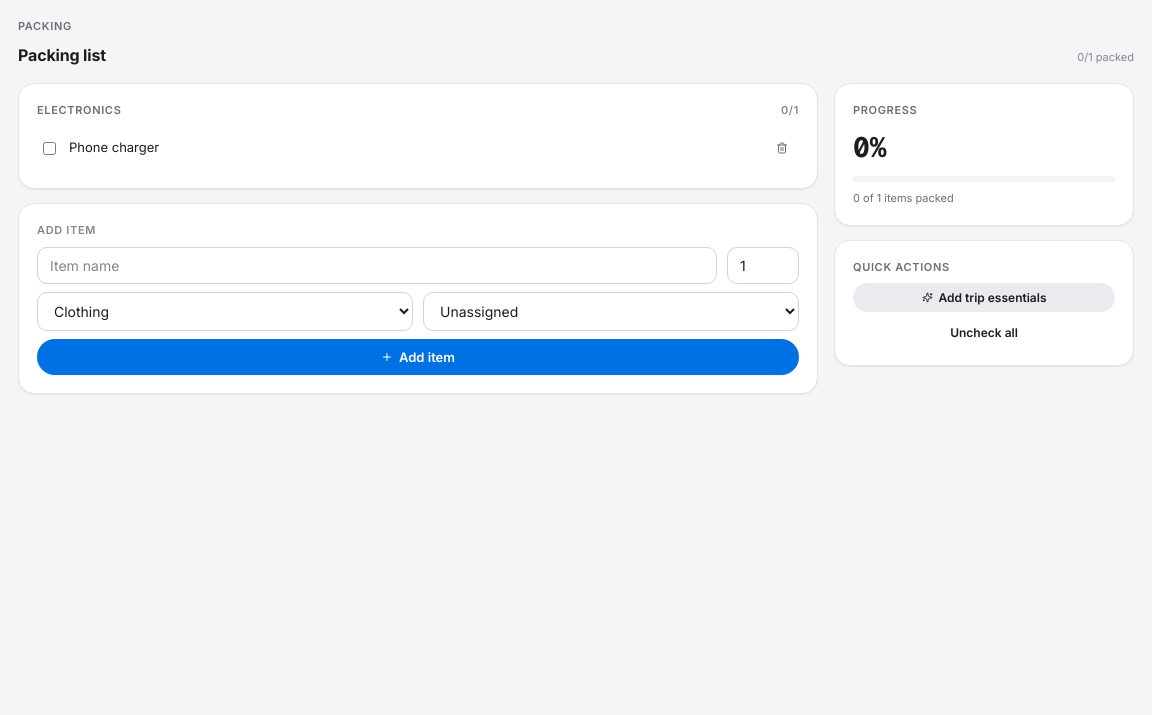
Test case: PackingView › does not duplicate starter items already on the list
Click the button "Add trip essentials" at {"x": 984, "y": 298}, box [853, 283, 1115, 312]
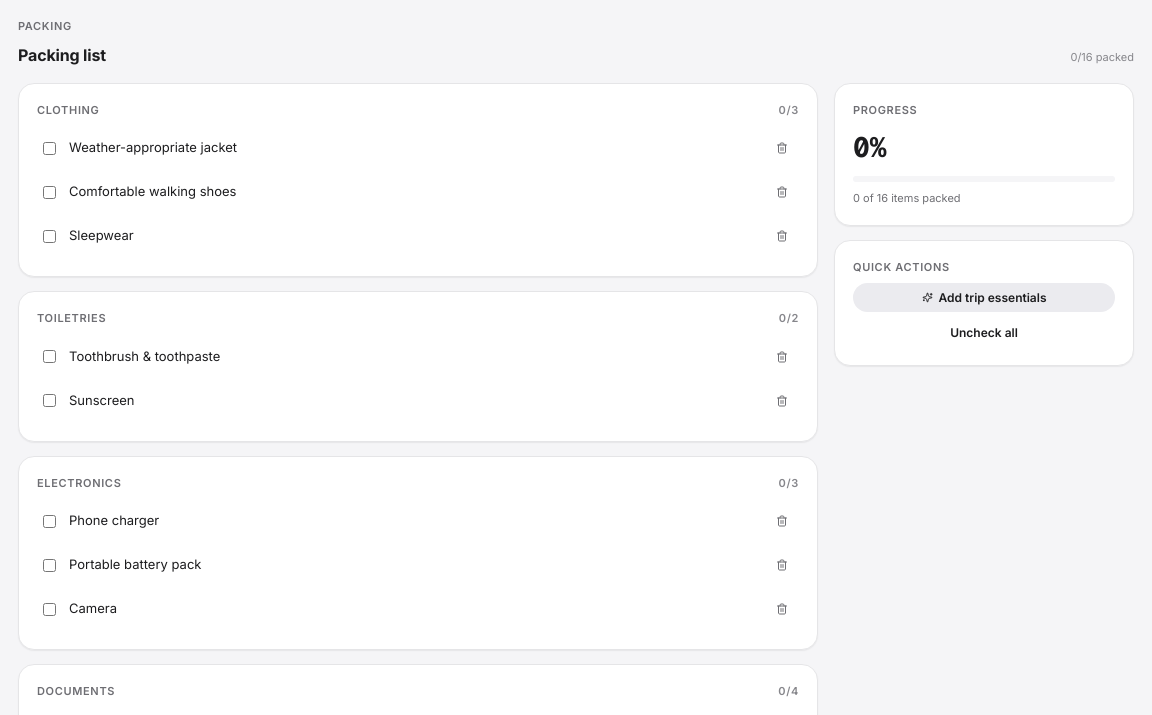
Check: the text "Phone charger" is shown once, box [69, 512, 159, 528]
